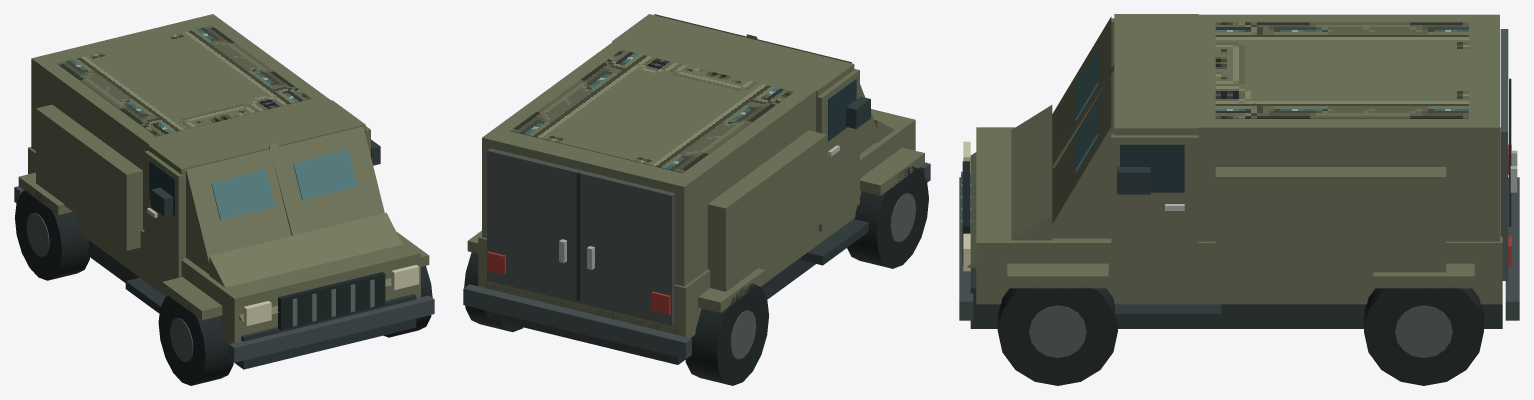
Rendered from CMU3DReduxVehicleSPPVan.glb.
The picture shows the model from 3 angles, left to right: view 1: azimuth 30°, elevation 25°; view 2: azimuth 150°, elevation 25°; view 3: azimuth 270°, elevation 25°; orthographic projection. The views are drawn at different scales.
Visible parts, largest first — view 1: source roof livery, sloping cab frame, enclosed rear body, armored side storage, lower vehicle body, rubber road tire (×3), front hood, cab bulkhead, armored vision window (×2), bumper, cab door skin, sealed chassis (+8 smaller); view 2: rear double doors, source roof livery, enclosed rear body, armored side storage, rubber road tire (×3), cab bulkhead, lower vehicle body, bumper, cab door skin, wheel fender (×2), sealed chassis, recessed metal wheel hub (×2) (+5 smaller); view 3: enclosed rear body, armored side storage, source roof livery, lower vehicle body, rubber road tire (×2), cab door skin, cab bulkhead, sloping cab frame, front hood, sealed chassis, recessed metal wheel hub (×2), wheel fender (×2) (+8 smaller).
Part boxes in pixels (<box>): source roof livery: <box>57,25,311,136</box>; sloping cab frame: <box>186,126,384,276</box>; enclosed rear body: <box>31,14,330,229</box>; armored side storage: <box>36,104,142,250</box>; lower vehicle body: <box>28,147,420,343</box>; rubber road tire (×3): <box>15,190,432,385</box>; front hood: <box>209,212,402,321</box>; cab bulkhead: <box>148,100,365,258</box>; armored vision window (×2): <box>211,150,357,219</box>; bumper: <box>229,295,434,362</box>; cab door skin: <box>144,150,183,284</box>; sealed chassis: <box>88,240,416,369</box>; rear double doors: <box>487,148,675,325</box>; source roof livery: <box>511,49,793,173</box>; enclosed rear body: <box>482,41,820,286</box>; armored side storage: <box>707,130,826,291</box>; rubber road tire (×3): <box>464,166,928,385</box>; cab bulkhead: <box>612,14,854,131</box>; lower vehicle body: <box>478,109,915,337</box>; bumper: <box>463,284,691,359</box>; cab door skin: <box>816,69,859,231</box>; wheel fender (×2): <box>698,147,924,312</box>; sealed chassis: <box>485,257,815,364</box>; recessed metal wheel hub (×2): <box>730,193,916,359</box>; enclosed rear body: <box>1184,14,1499,241</box>; armored side storage: <box>1215,167,1446,273</box>; source roof livery: <box>1215,22,1468,118</box>; lower vehicle body: <box>976,127,1502,304</box>; rubber road tire (×2): <box>997,285,1483,385</box>; cab door skin: <box>1111,134,1198,290</box>; cab bulkhead: <box>1114,14,1198,135</box>; sloping cab frame: <box>1044,16,1111,238</box>; front hood: <box>967,105,1052,267</box>; sealed chassis: <box>970,267,1502,328</box>; recessed metal wheel hub (×2): <box>1029,305,1452,357</box>; wheel fender (×2): <box>1007,263,1474,288</box>.
Bounding box in the file's own units: 1.79 × 1.46 × 2.99.
19 materials, 1 textured.
